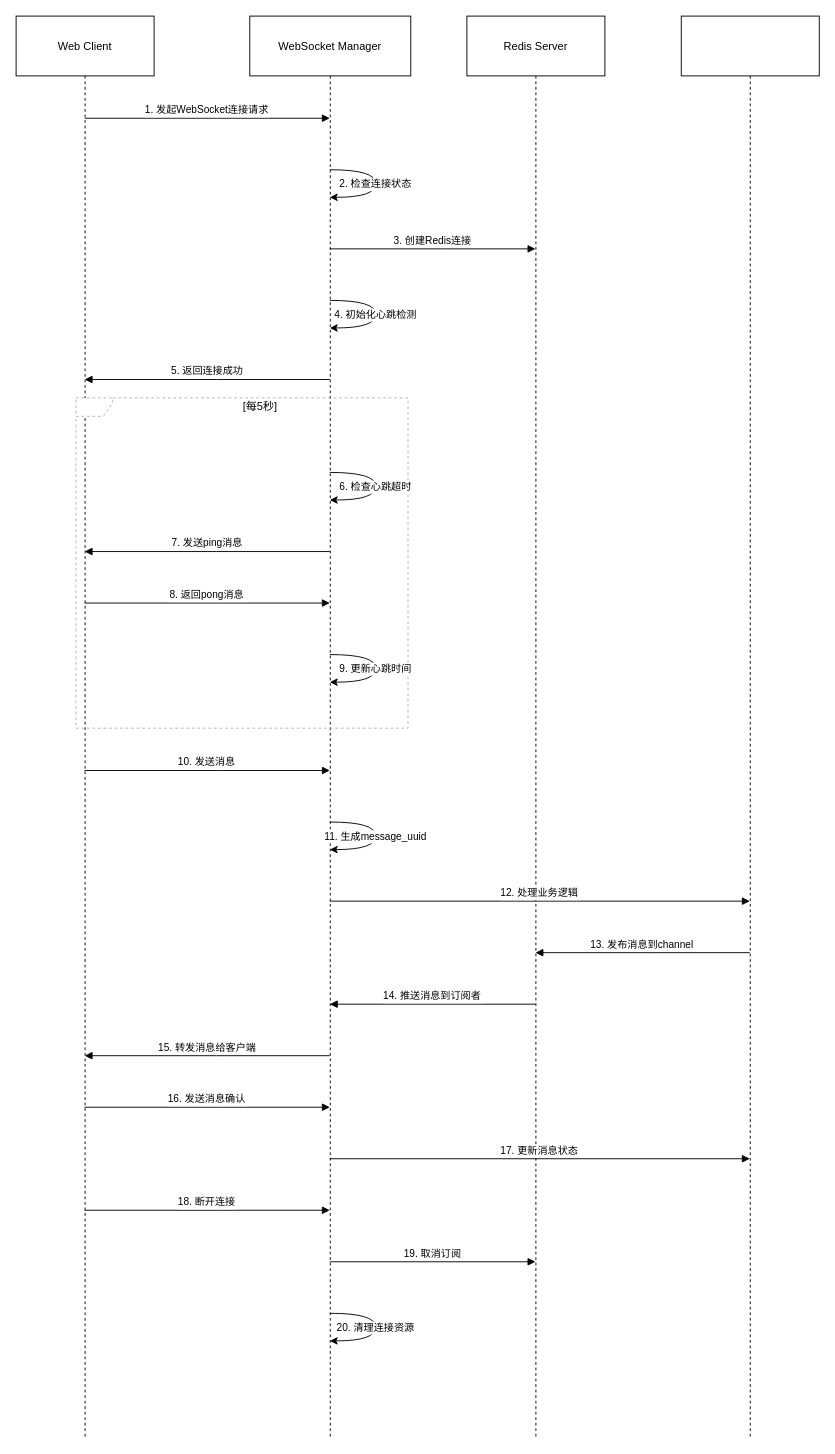
Some shapes in this 835 by 1454 pixel diagram are drawn without their labels. The box of each missing label's shape, as (x1, y1, x2, y2) in pixels:
Business Service: (680, 15, 819, 1438)
loop: (75, 397, 408, 728)
